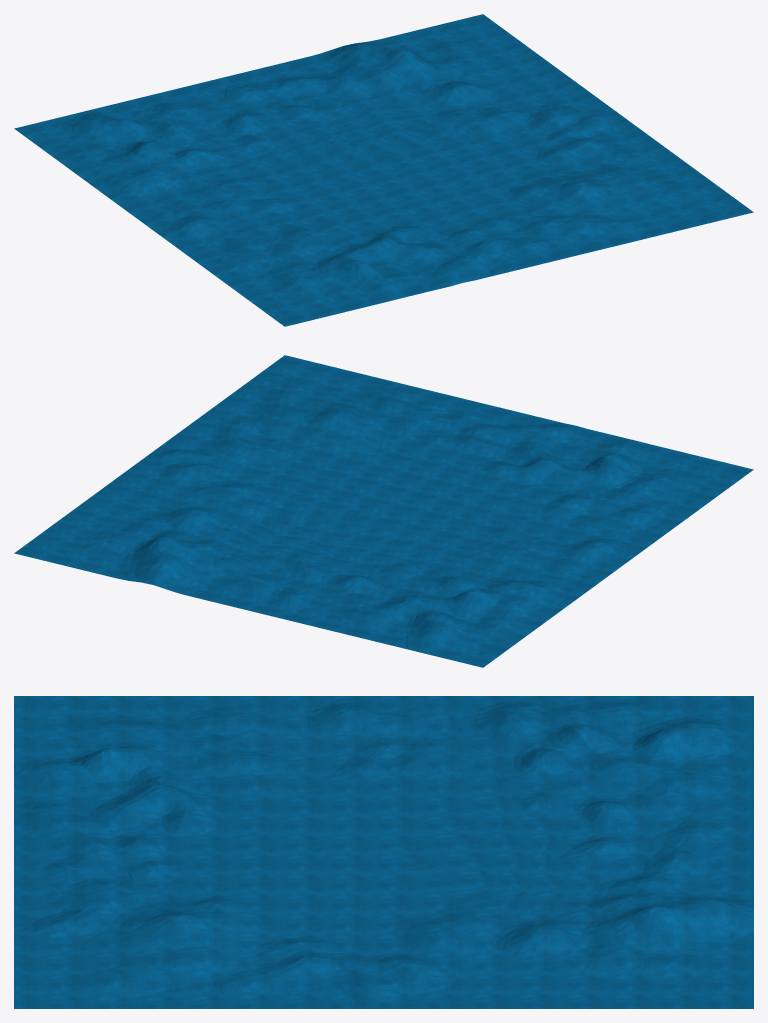
3 views of the same model, one above another, from view 1: azimuth 30°, elevation 25°; view 2: azimuth 150°, elevation 25°; view 3: azimuth 270°, elevation 25° (orthographic). The views are drawn at different scales.
Visible parts, largest first — view 1: Ground_Mesh; view 2: Ground_Mesh; view 3: Ground_Mesh.
Part boxes in pixels (box(x1,y1,x2,y2)): Ground_Mesh: box(14, 14, 753, 326); Ground_Mesh: box(14, 355, 753, 667); Ground_Mesh: box(14, 696, 753, 1008).
Size of what is drawn, in the model's own units: 2000 by 69.67 by 2000.
1 material, 1 textured.
